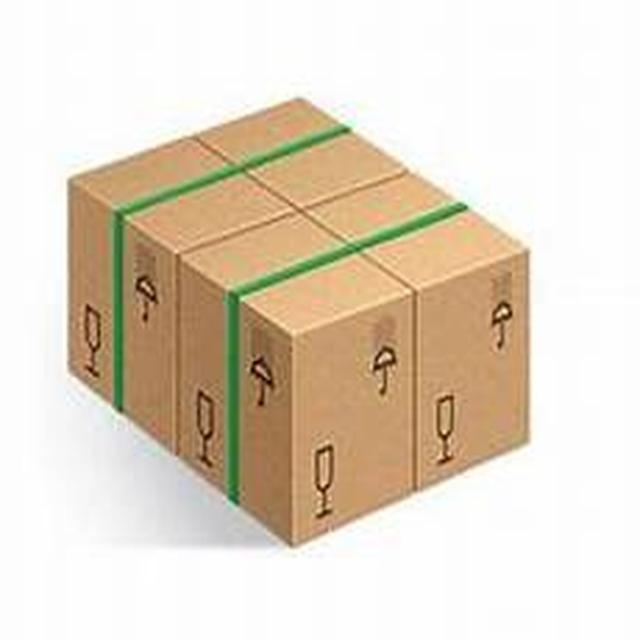box: (75, 76, 515, 564)
